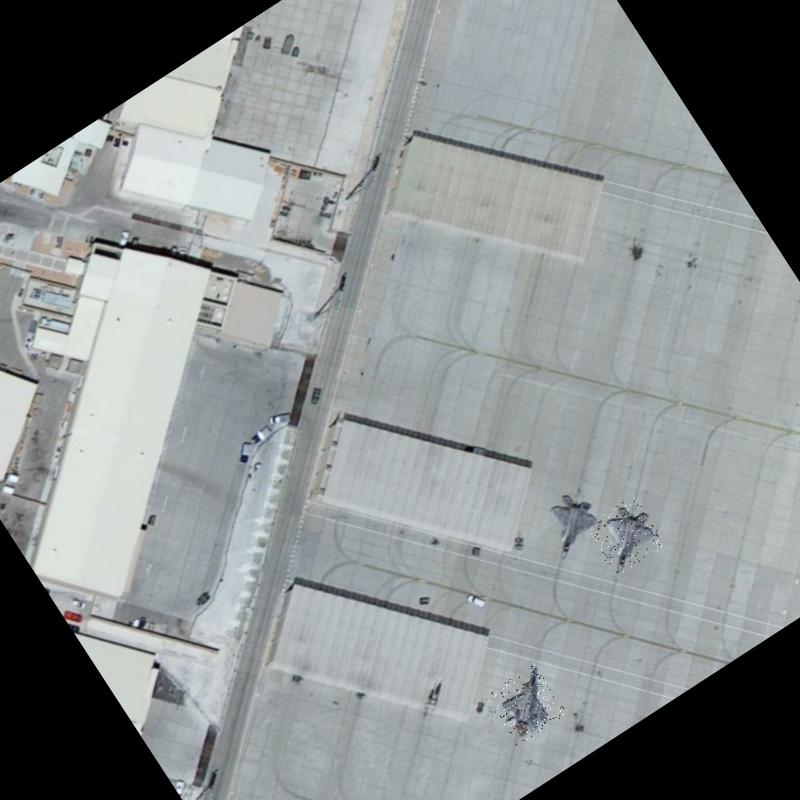A15: (526, 482, 611, 567), (584, 494, 667, 578), (484, 663, 568, 746)
